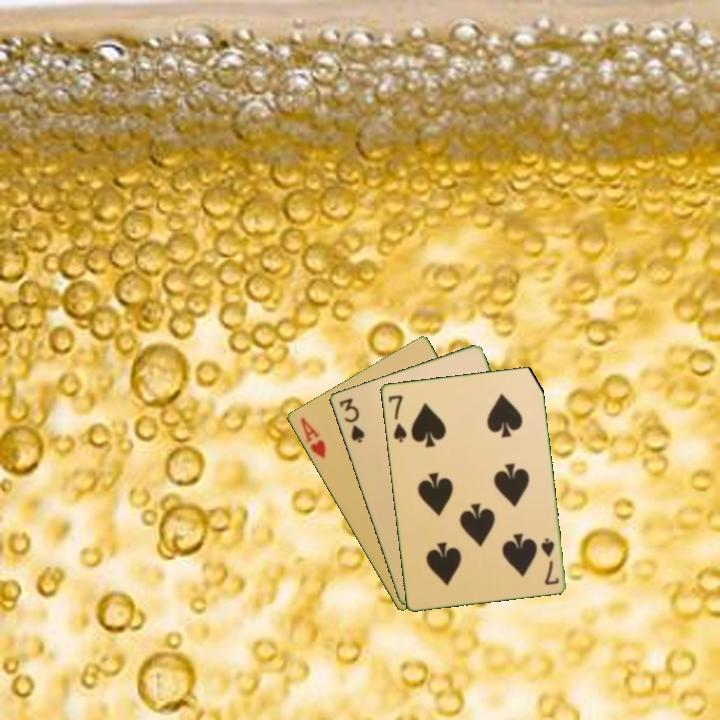3s: (335, 394, 367, 446)
7s: (384, 391, 409, 445), (537, 534, 562, 588)
Ah: (296, 414, 329, 461)
